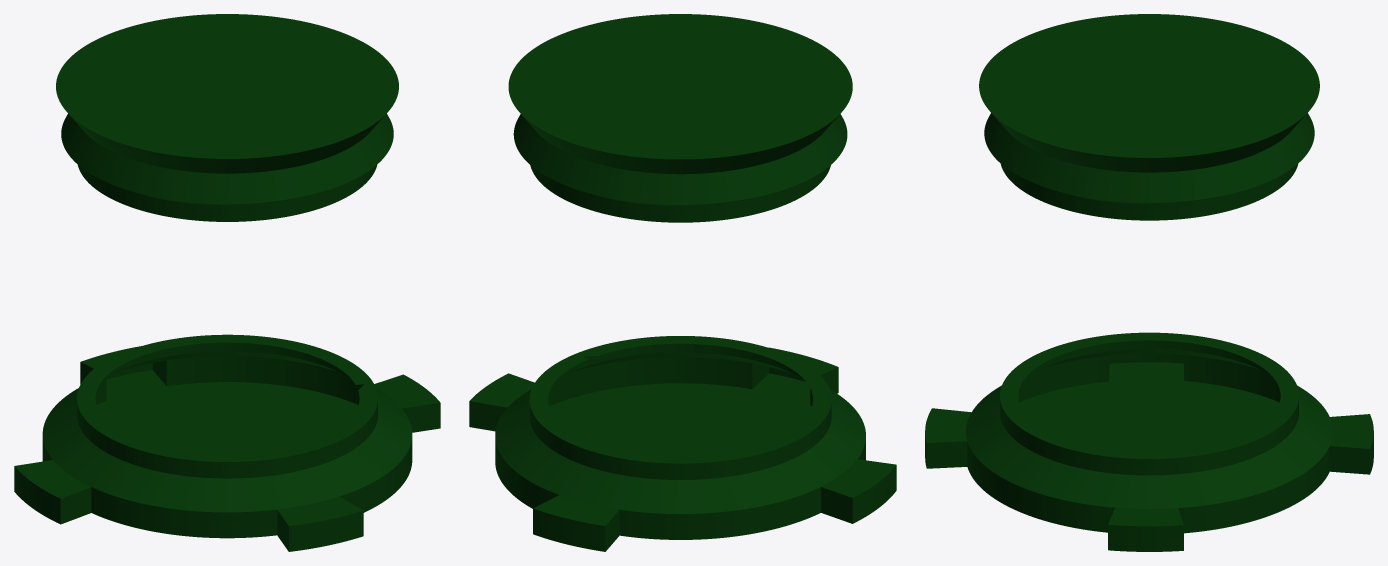
The model's file is container_top.fbx.
The picture shows the model from 3 angles, left to right: view 1: azimuth 30°, elevation 25°; view 2: azimuth 150°, elevation 25°; view 3: azimuth 270°, elevation 25°; orthographic projection.
Parts seen in each view (by area): view 1: Cylinder; view 2: Cylinder; view 3: Cylinder.
Part boxes in pixels (<box>): Cylinder: <box>14,14,440,551</box>; Cylinder: <box>469,14,896,551</box>; Cylinder: <box>925,14,1373,551</box>.
Bounding box in the file's own units: 450 × 450 × 411.
